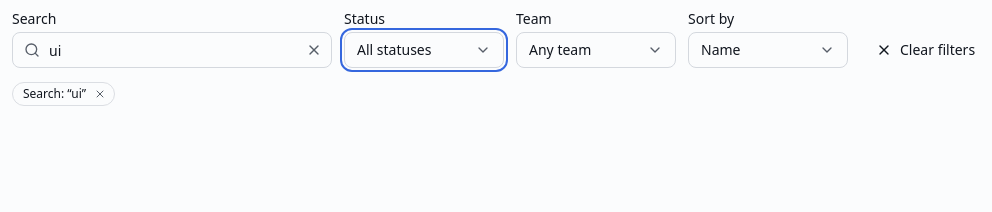
Test: SearchFilterToolbar › keeps the other criteria when one changes, and shows a chip for it
Step 1. Press Enter
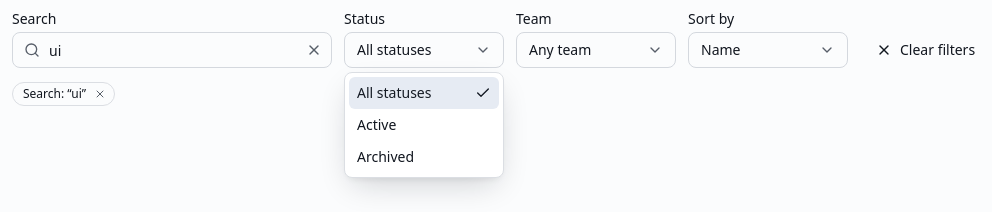
Step 2. Click the option "Archived" → click(386, 156), box [357,147,414,166]
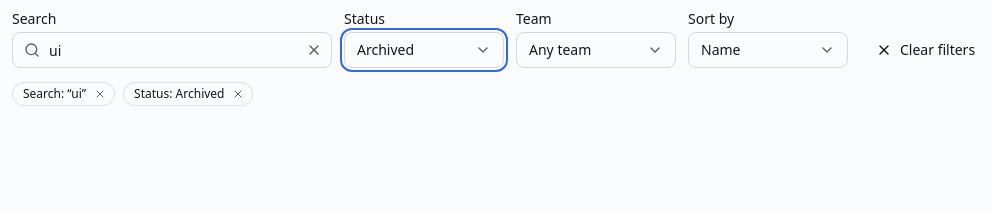
Expected: the list items read "Search: “ui”", "Status: Archived", in this order, [12,80,115,106]; [123,80,254,106]
